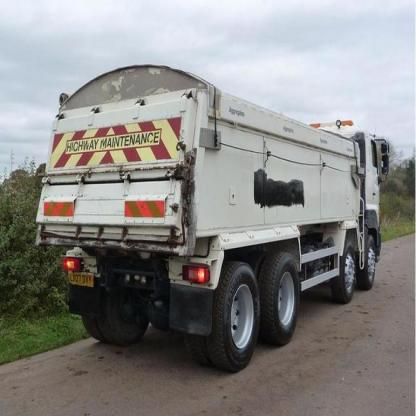dump_truck: (37, 61, 381, 375)
